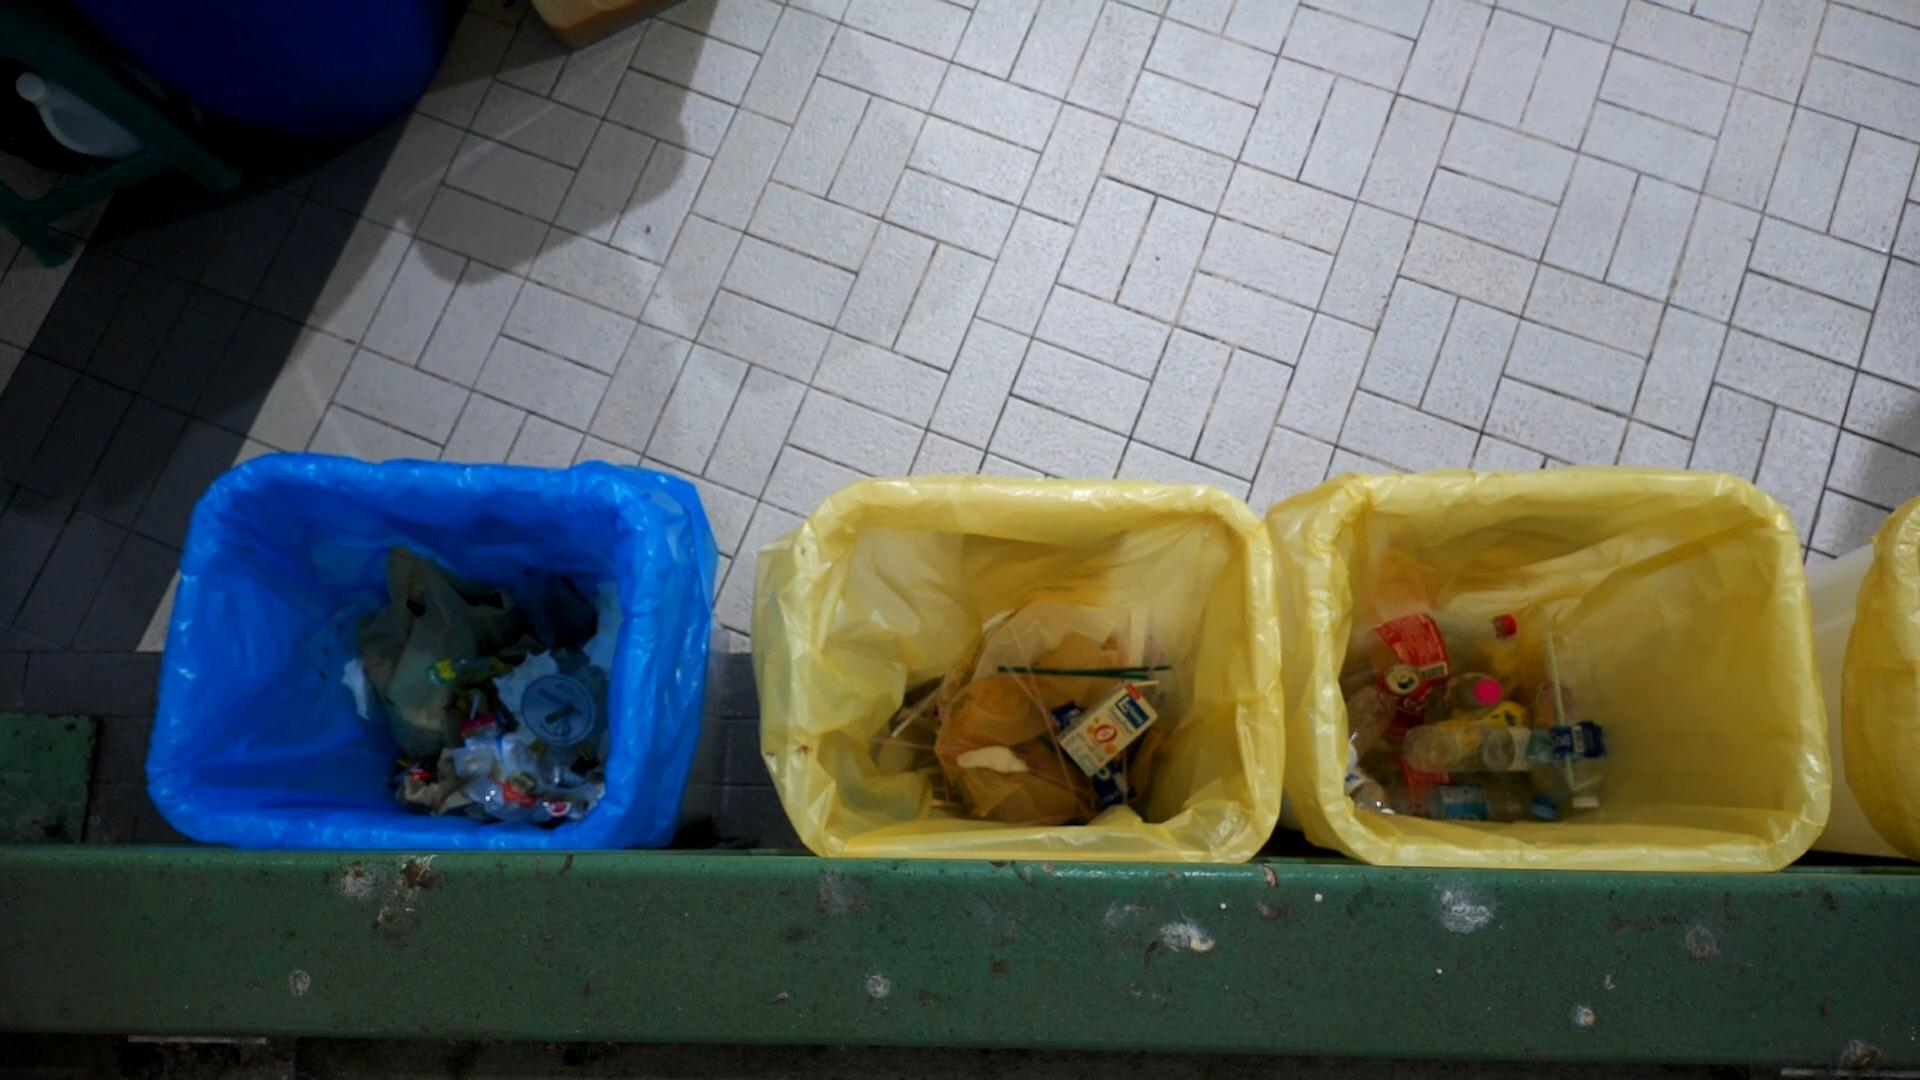can: (1375, 658, 1433, 742)
filled plastic bag: (339, 538, 526, 761)
milk carton: (1054, 679, 1163, 777), (456, 711, 504, 782)
plastic bag: (963, 596, 1154, 695)
plastic bottle: (1342, 607, 1538, 709), (1540, 597, 1609, 808), (1399, 721, 1553, 775), (1387, 783, 1561, 823), (1505, 678, 1555, 802), (1341, 682, 1398, 764), (1436, 666, 1506, 728)
plastic cup: (520, 651, 612, 749)
snack packaging: (485, 740, 597, 823), (425, 647, 512, 695), (386, 750, 443, 794)
straw: (1009, 625, 1077, 794), (1544, 630, 1604, 794), (890, 666, 965, 736), (1000, 661, 1060, 729), (1030, 764, 1110, 798), (998, 659, 1172, 671), (996, 665, 1151, 678), (872, 735, 972, 752), (545, 703, 575, 727), (468, 692, 481, 719), (1133, 679, 1160, 687)
tissue paper: (492, 646, 560, 744), (405, 748, 476, 816), (583, 585, 618, 680), (339, 651, 381, 715), (955, 741, 1031, 773), (572, 781, 608, 819)
